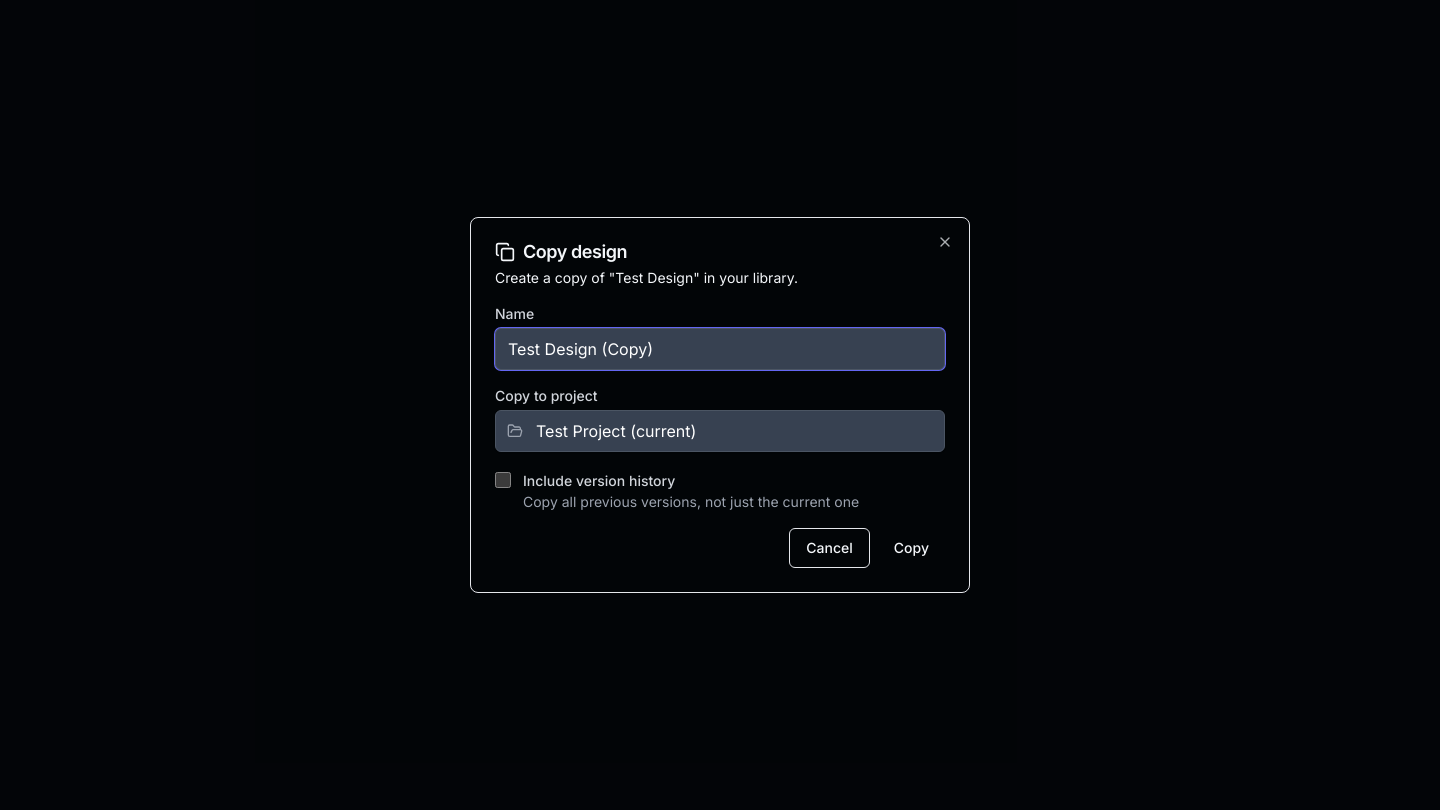
Scenario: CopyModal › shows info text when changing projects
This screenshot has width=1440, height=810.
Select "Other Project" in the dropdown with test id "copy-project-select": (720, 431) 495,410 -> 945,452
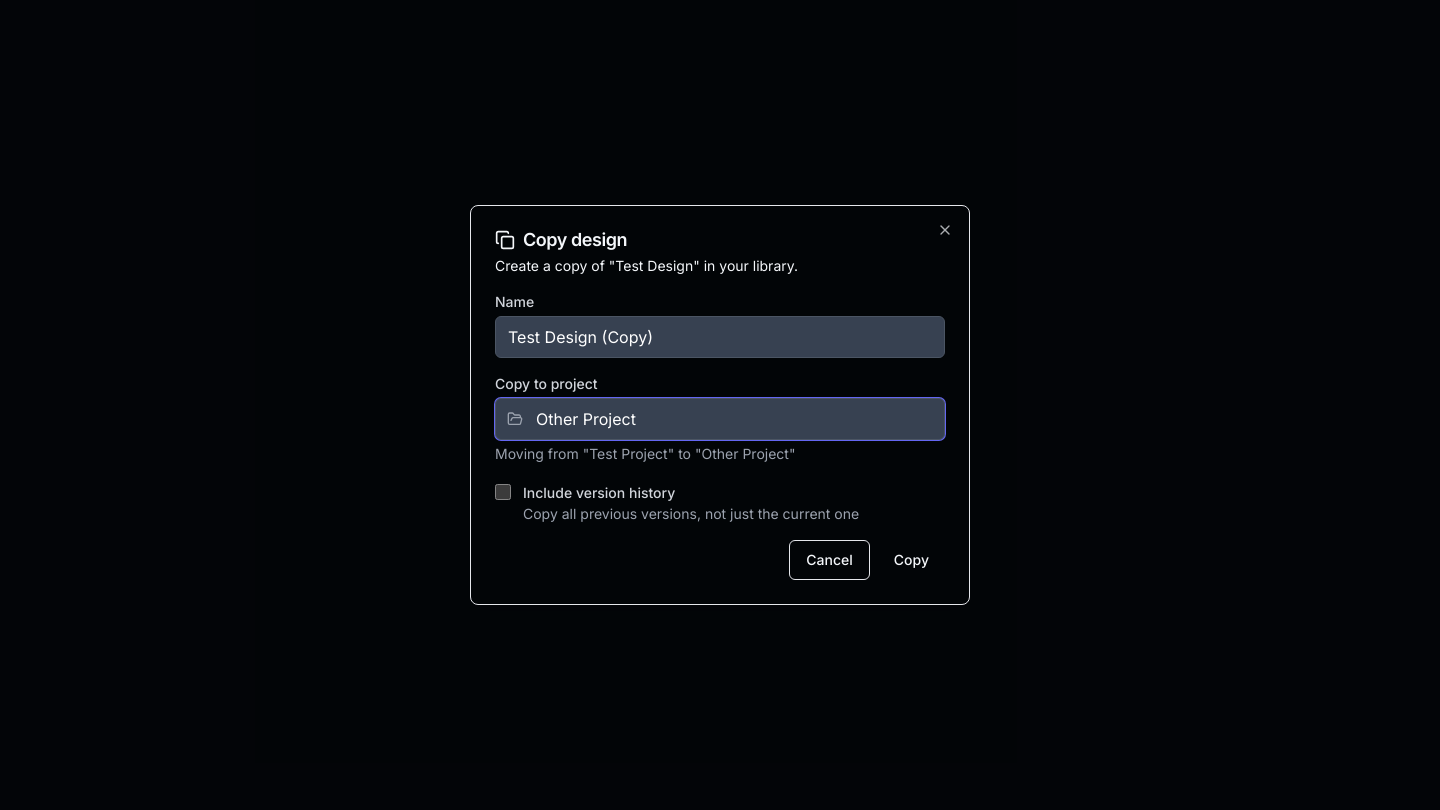
Expected: the text "Moving from \"Test Project\" to \"Other Project\"" is shown, 495,445 -> 796,462
